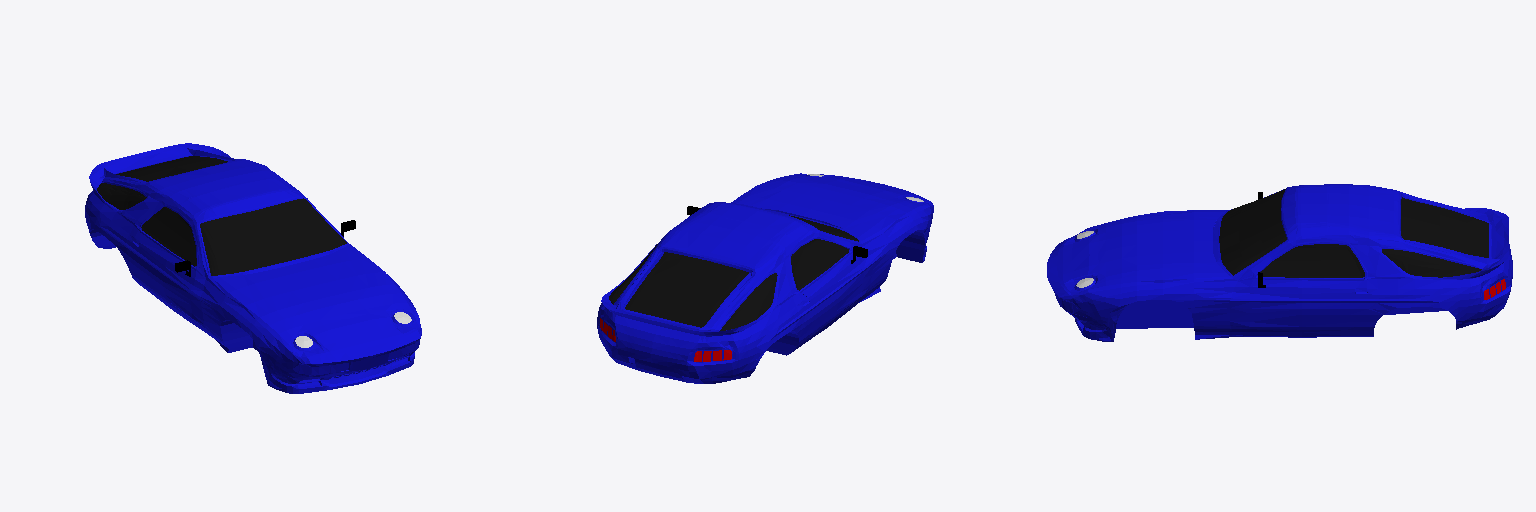
File: porsche.obj
The picture shows the model from 3 angles: view 1: azimuth 30°, elevation 25°; view 2: azimuth 150°, elevation 25°; view 3: azimuth 270°, elevation 25°; orthographic projection.
Parts seen in each view (by area): view 1: body Mesh, glass Mesh; view 2: body Mesh, glass Mesh; view 3: body Mesh, glass Mesh.
Part boxes in pixels (x1,y1,x2,y2): body Mesh: (85,143,421,393); glass Mesh: (97,156,346,275); body Mesh: (597,173,933,383); glass Mesh: (609,215,858,330); body Mesh: (1047,184,1512,341); glass Mesh: (1219,189,1488,277).
Size of the model in its own units: 50.52 by 28.24 by 114.